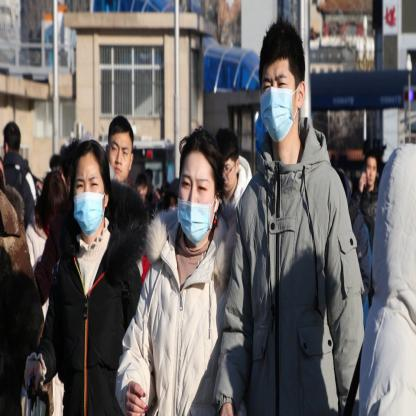Not_Wearing_Mask: (108, 136, 130, 181), (221, 156, 236, 192), (366, 156, 376, 187)
Wearing_Mask: (176, 169, 215, 243), (259, 65, 297, 138), (70, 170, 106, 236)
